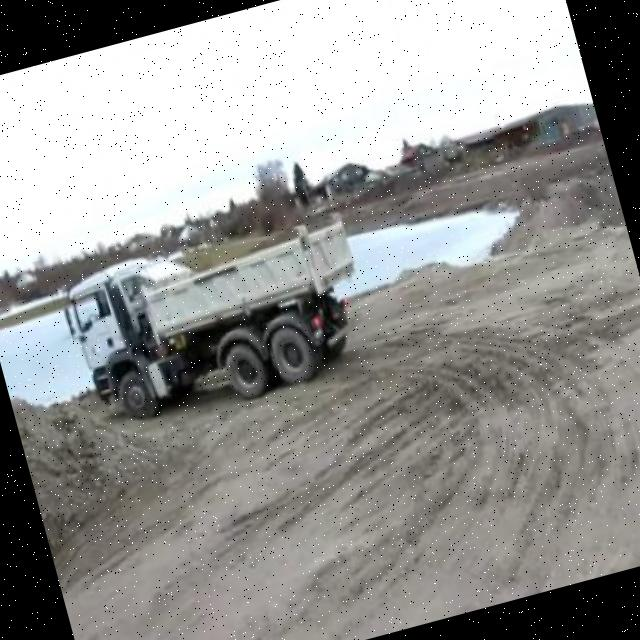Dump Truck: (53, 202, 380, 439)
